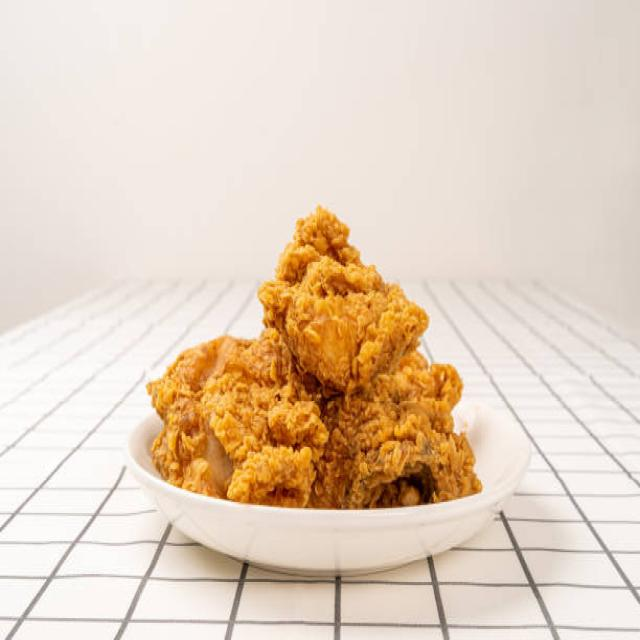Frango: (147, 206, 478, 512)
